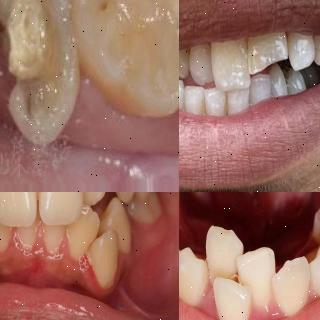cavities: (0, 0, 55, 136)
maligned: (230, 241, 276, 308), (247, 11, 289, 79), (269, 257, 311, 319), (87, 236, 130, 296), (204, 216, 238, 274), (68, 199, 101, 256), (212, 36, 246, 90), (179, 238, 203, 310), (215, 274, 251, 320), (285, 30, 319, 70), (184, 44, 216, 79), (75, 192, 108, 210)
stains: (196, 93, 214, 129), (222, 95, 230, 118)
